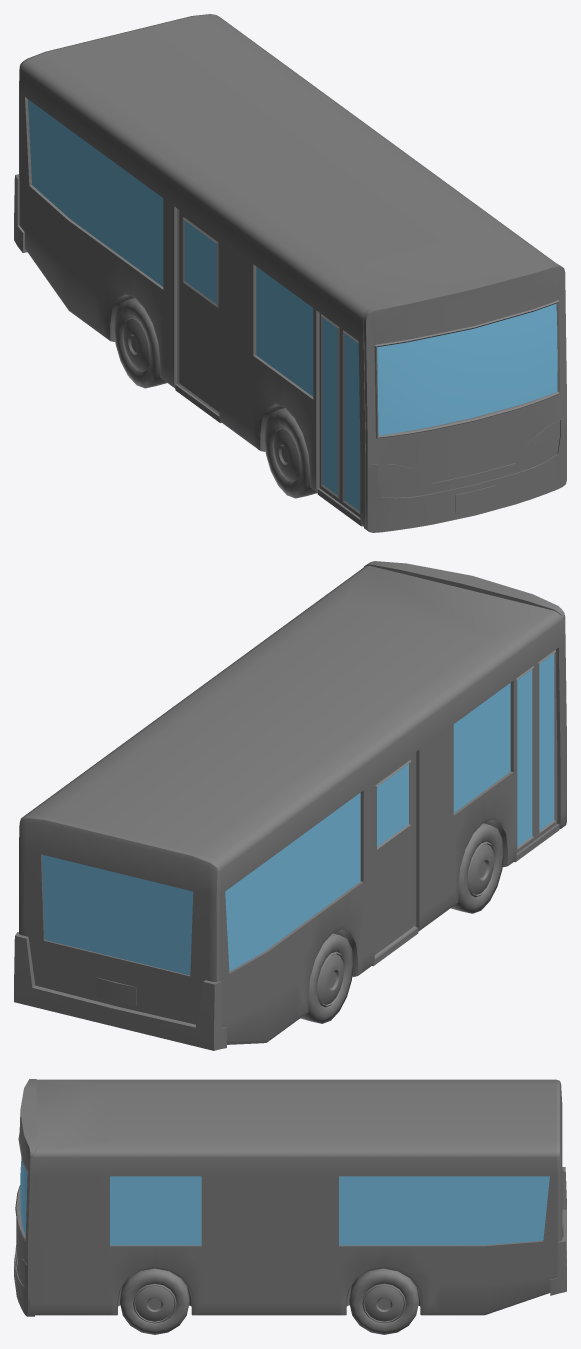
Rendered from Bus.fbx.
3 renders of one model, top to bottom at view 1: azimuth 30°, elevation 25°; view 2: azimuth 150°, elevation 25°; view 3: azimuth 270°, elevation 25°, orthographic. The views are drawn at different scales.
Visible parts, largest first — view 1: Bus, tire (×2), Bus_back; view 2: Bus, Bus_back, tire (×2); view 3: Bus, tire (×2), Bus_back.
Part boxes in pixels (<box>): Bus: <box>19,14,566,532</box>; tire (×2): <box>114,298,317,498</box>; Bus_back: <box>14,14,210,252</box>; Bus: <box>23,561,566,1044</box>; Bus_back: <box>14,815,226,1050</box>; tire (×2): <box>300,823,503,1023</box>; Bus: <box>14,1079,557,1316</box>; tire (×2): <box>120,1268,418,1334</box>; Bus_back: <box>547,1080,566,1295</box>.
Size of the model in its own units: 81.54 by 94.24 by 251.
